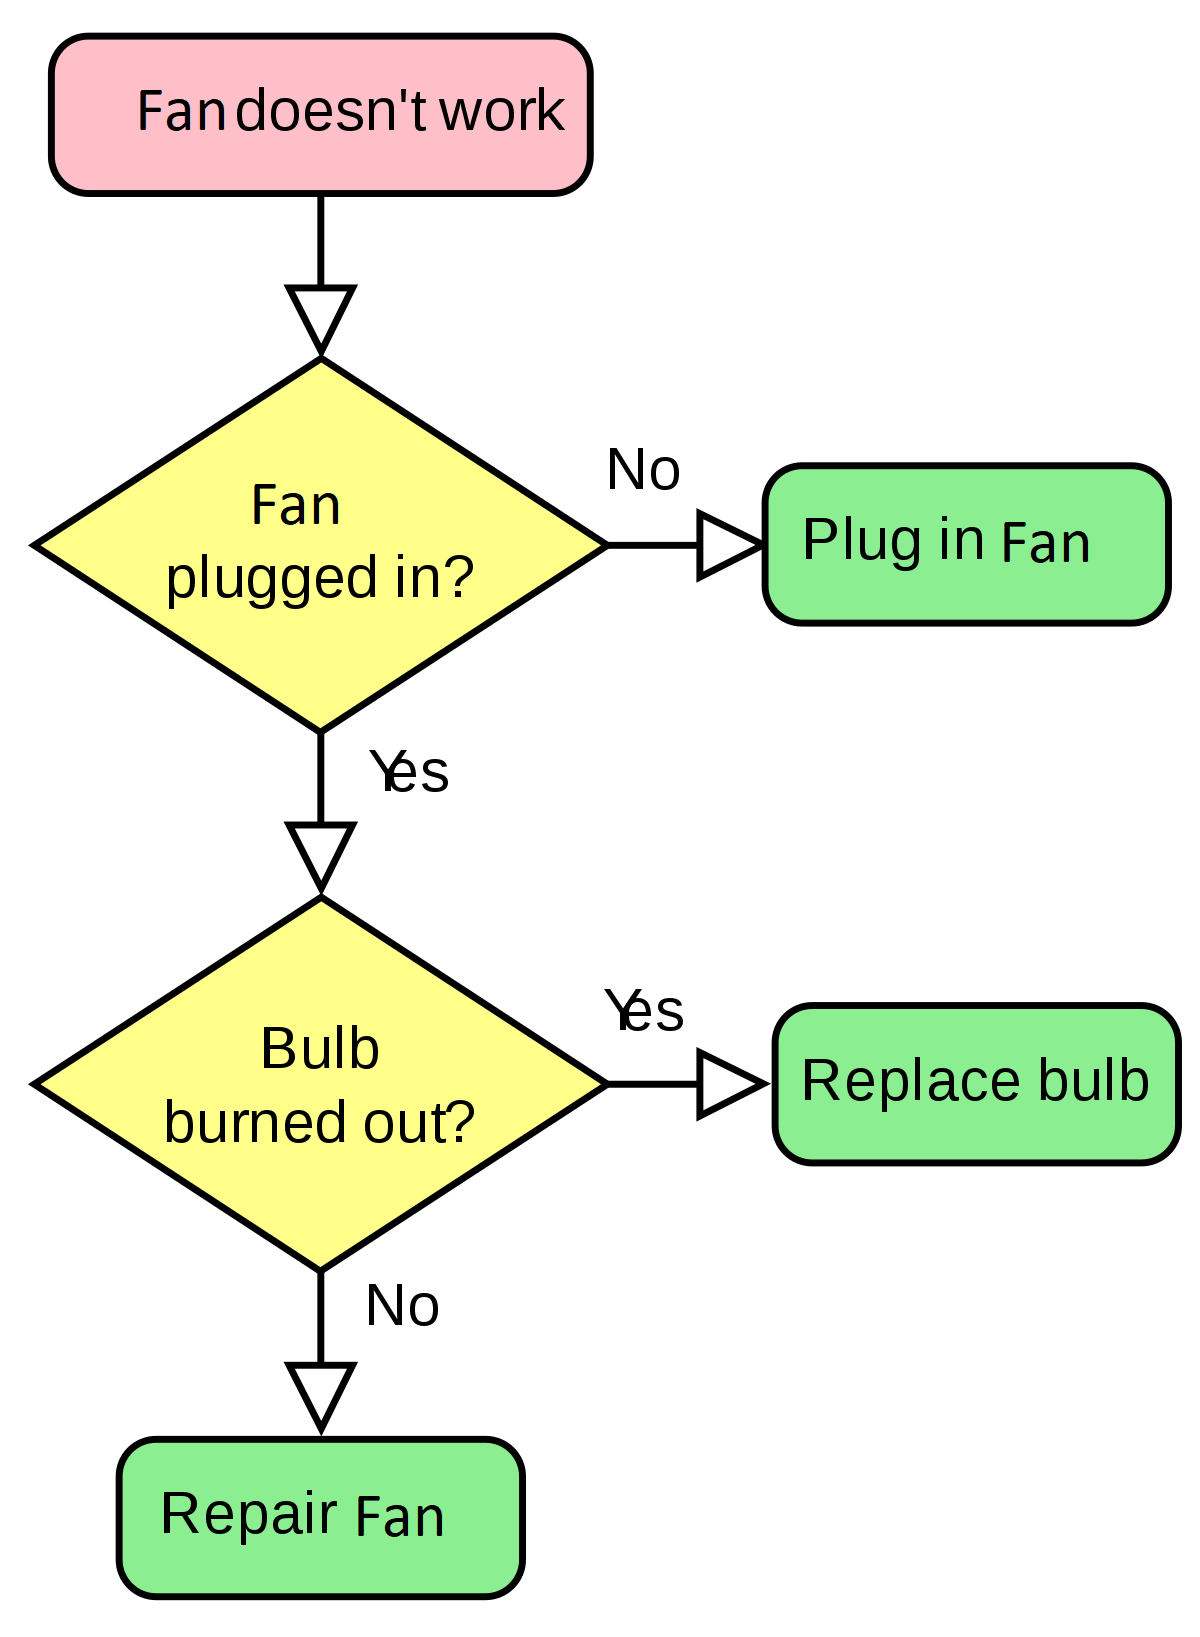arrow: (594, 1043, 772, 1124), (278, 1260, 358, 1436), (278, 189, 358, 366), (601, 508, 775, 583), (283, 724, 353, 899)
decision: (29, 891, 619, 1279), (24, 350, 611, 736)
process: (39, 29, 606, 208), (111, 1429, 536, 1609), (751, 456, 1181, 630), (767, 996, 1186, 1171)
text: (161, 1015, 475, 1165), (161, 474, 479, 616), (128, 79, 569, 141), (794, 1049, 1156, 1111), (800, 511, 1103, 574), (156, 1486, 451, 1551), (601, 974, 689, 1041), (364, 744, 454, 805), (358, 1274, 449, 1331), (604, 444, 684, 496)
